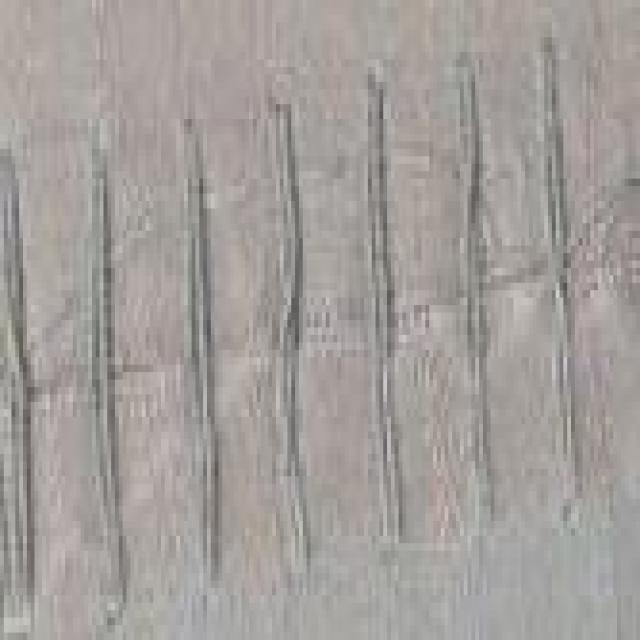gray stitch: (4, 30, 586, 625)
